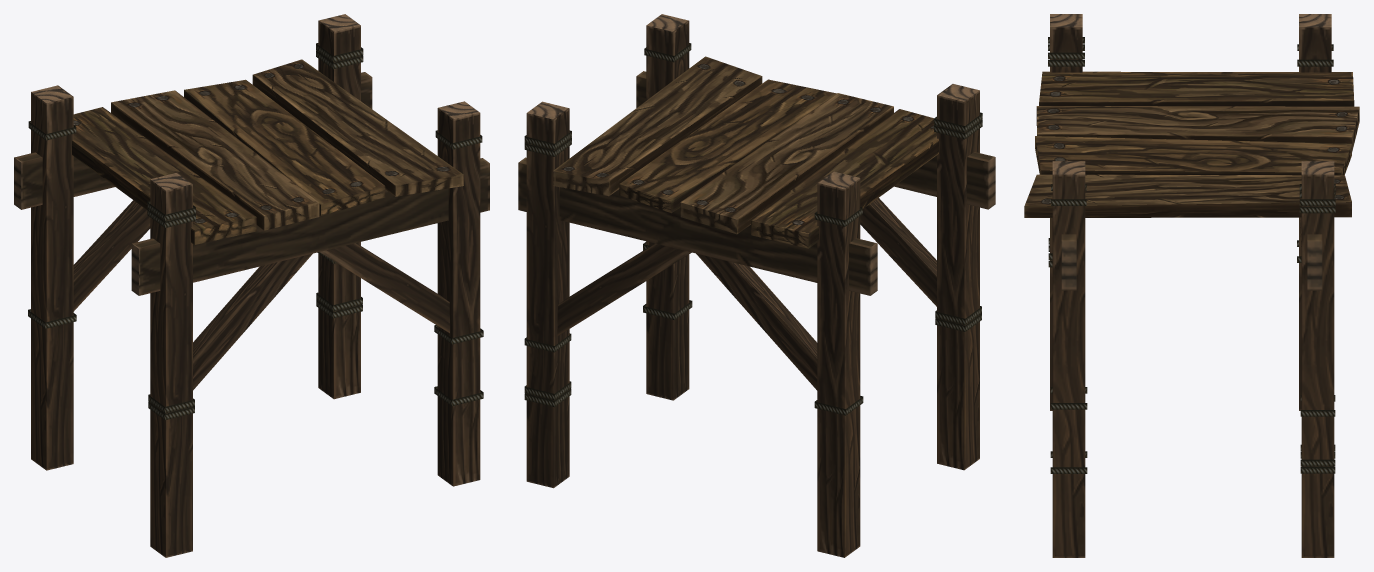
Rendered from mobile_scaffolding_03.fbx.
3 views of the same model, side by side, from view 1: azimuth 30°, elevation 25°; view 2: azimuth 150°, elevation 25°; view 3: azimuth 270°, elevation 25° (orthographic). The views are drawn at different scales.
Parts seen in each view (by area): view 1: mobile_scaffolding_03; view 2: mobile_scaffolding_03; view 3: mobile_scaffolding_03.
Boxes of the visible parts, bbox=[...] form: mobile_scaffolding_03: bbox=[14, 14, 489, 557]; mobile_scaffolding_03: bbox=[518, 14, 995, 557]; mobile_scaffolding_03: bbox=[1024, 14, 1359, 557].
Bounding box in the file's own units: 400 × 400 × 317.
